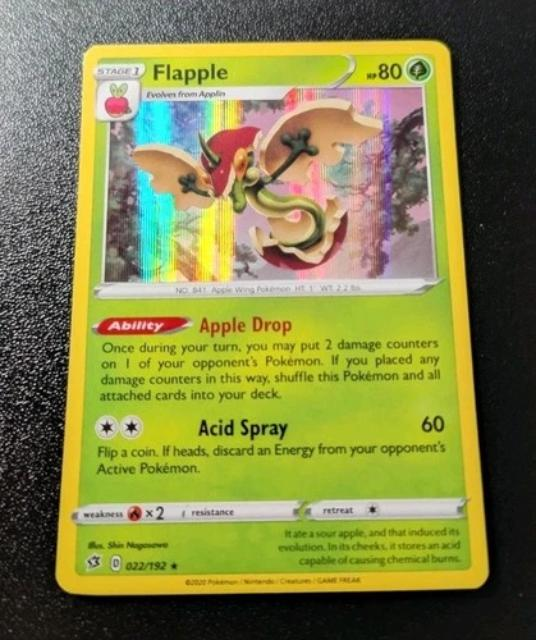Card: (55, 32, 492, 600)
Name: (148, 55, 236, 89)
